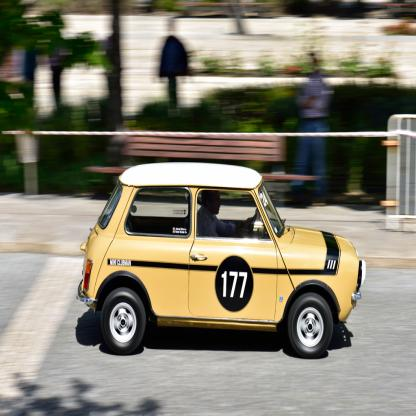Car: (76, 162, 368, 357)
